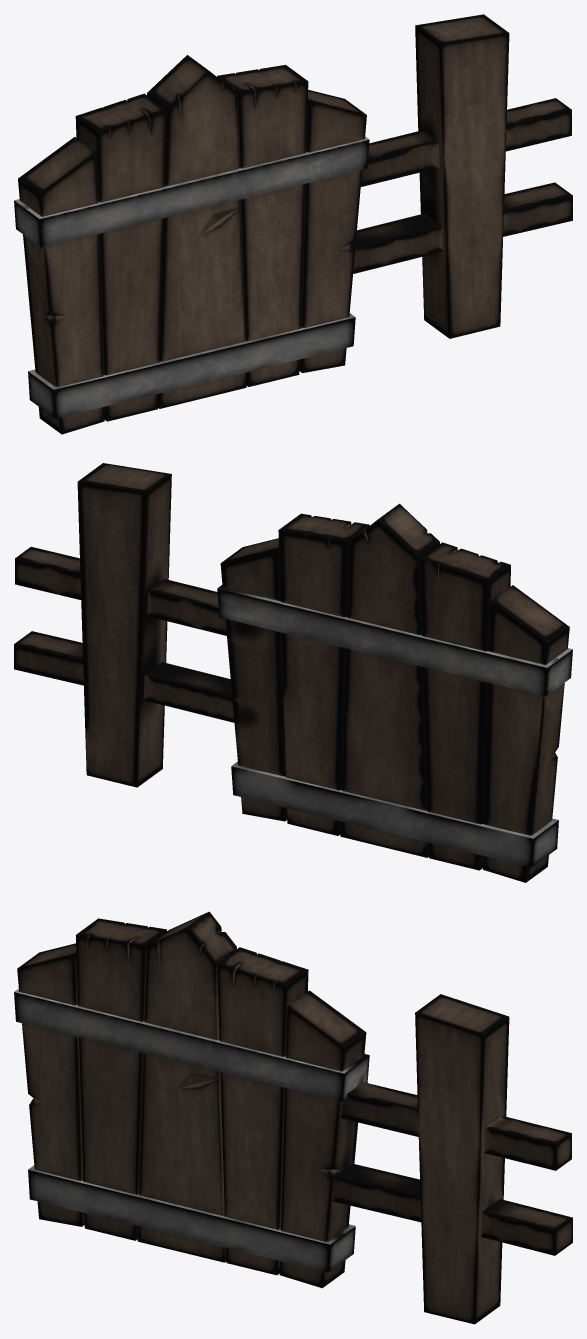
Rendered from Valla.fbx.
3 views of the same model, one above another, from view 1: azimuth 30°, elevation 25°; view 2: azimuth 150°, elevation 25°; view 3: azimuth 330°, elevation 25° (orthographic).
Visible parts, largest first — view 1: Cube.032, Cube.019, Cube.034; view 2: Cube.032, Cube.019, Cube.034; view 3: Cube.032, Cube.019, Cube.034.
Boxes of the visible parts, bbox=[...] form: Cube.032: bbox=[18, 55, 366, 434]; Cube.019: bbox=[351, 14, 572, 338]; Cube.034: bbox=[14, 136, 369, 418]; Cube.032: bbox=[220, 503, 569, 882]; Cube.019: bbox=[14, 463, 234, 787]; Cube.034: bbox=[217, 585, 572, 867]; Cube.032: bbox=[17, 911, 366, 1288]; Cube.019: bbox=[332, 994, 572, 1324]; Cube.034: bbox=[14, 988, 369, 1272].
Size of the model in its own units: 2.55 by 1.48 by 0.2103.
Materials: 1 (1 with a texture image).
